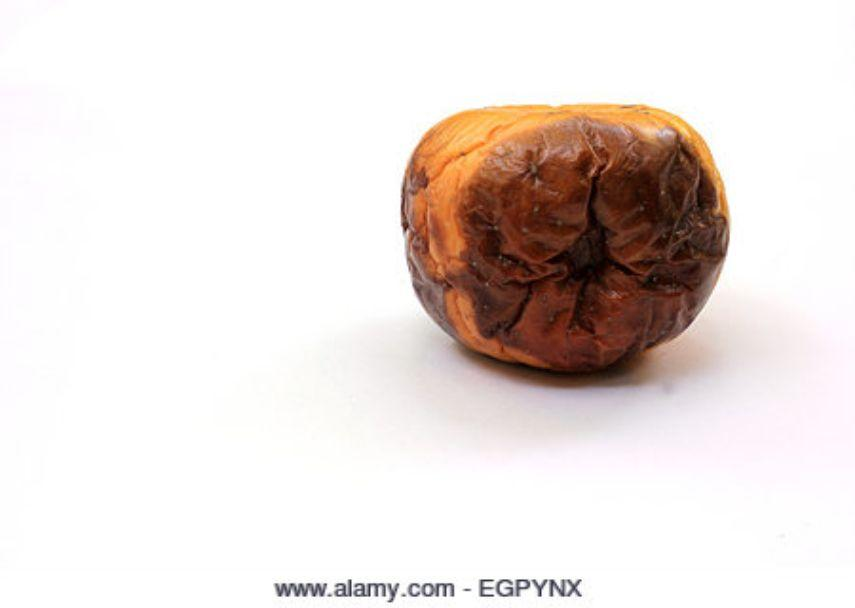ROT: (378, 85, 762, 401)
